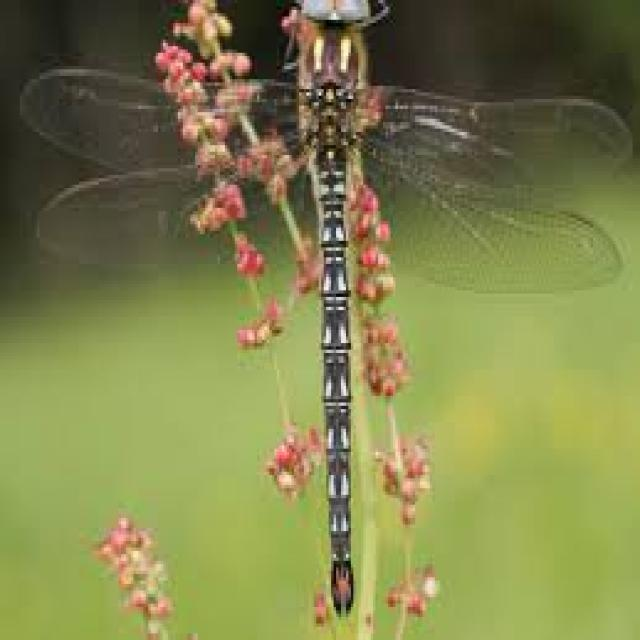dragonfly: (20, 0, 630, 610), (222, 241, 227, 244)
